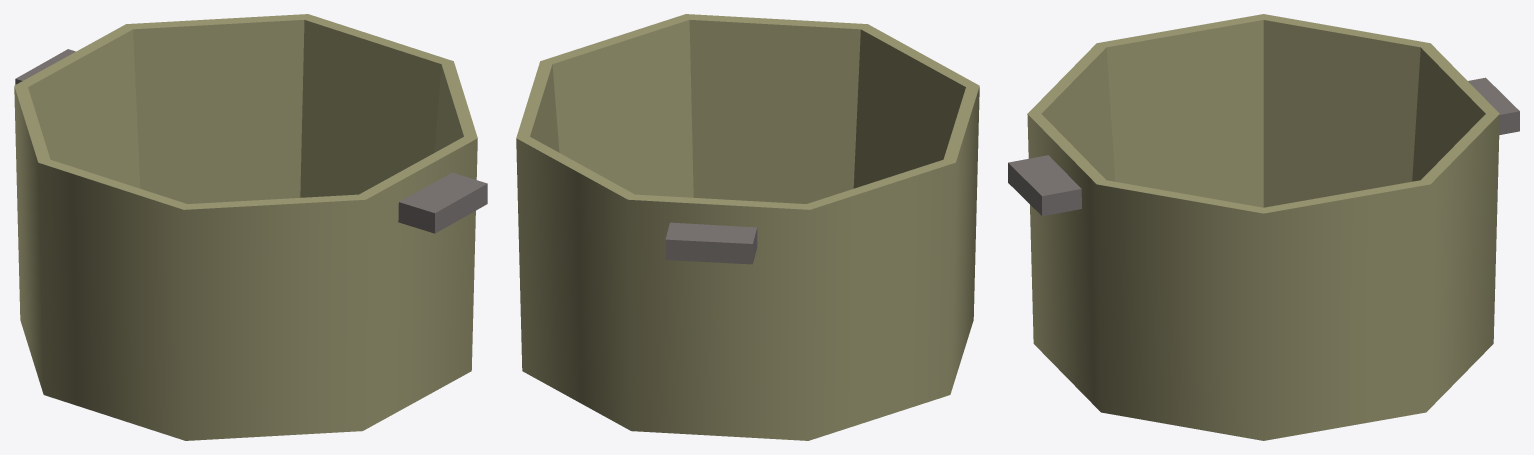
Rendered from SM_Pan_04.FBX.
3 views of the same model, side by side, from view 1: azimuth 30°, elevation 25°; view 2: azimuth 150°, elevation 25°; view 3: azimuth 270°, elevation 25° (orthographic).
Parts seen in each view (by area): view 1: SM_Pan_04; view 2: SM_Pan_04; view 3: SM_Pan_04.
Boxes of the visible parts, x1,y1,x2,y2 form: SM_Pan_04: (14, 14, 487, 440); SM_Pan_04: (516, 14, 979, 440); SM_Pan_04: (1008, 14, 1519, 440).
Size of the model in its own units: 46 by 49.86 by 24.71.
